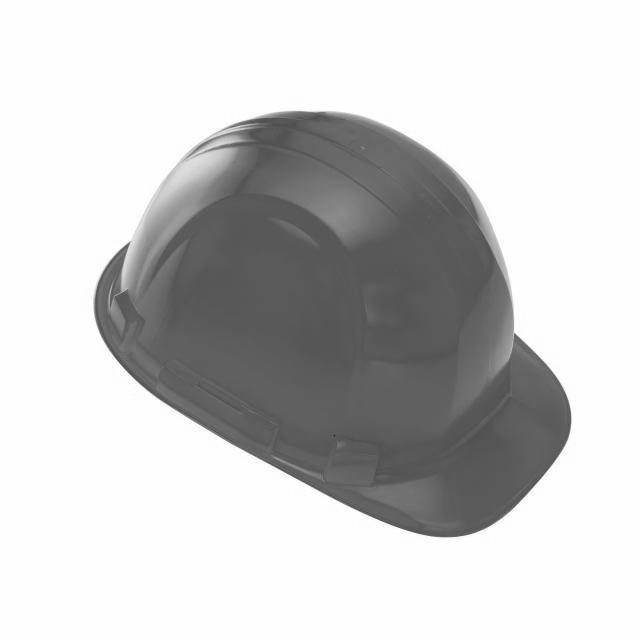safety_helmet: (93, 111, 574, 540)
